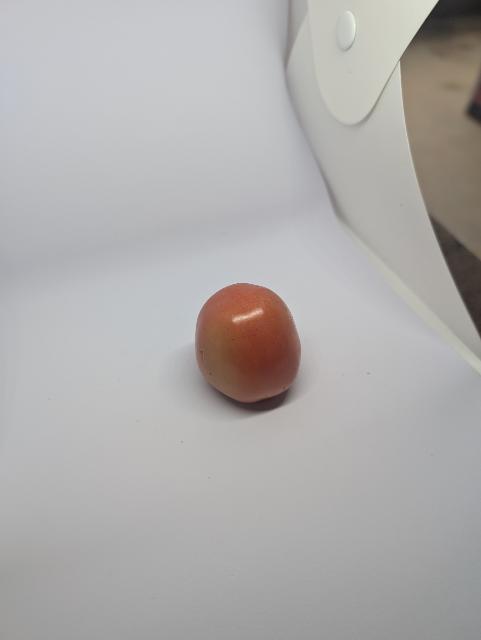red: (186, 279, 311, 417)
